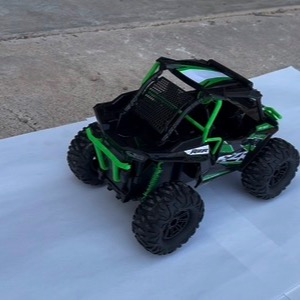polaris: (66, 57, 299, 257)
